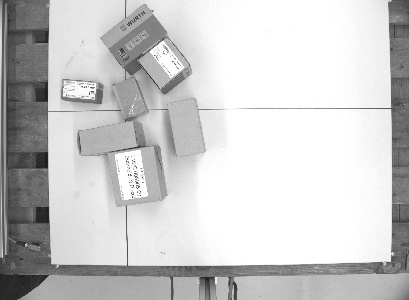b1: (111, 75, 151, 122)
b2: (163, 98, 207, 158)
b3: (60, 76, 104, 105)
b4: (99, 2, 168, 68)
b5: (108, 146, 166, 206)
b6: (76, 120, 141, 157)
b7: (134, 36, 194, 93)
